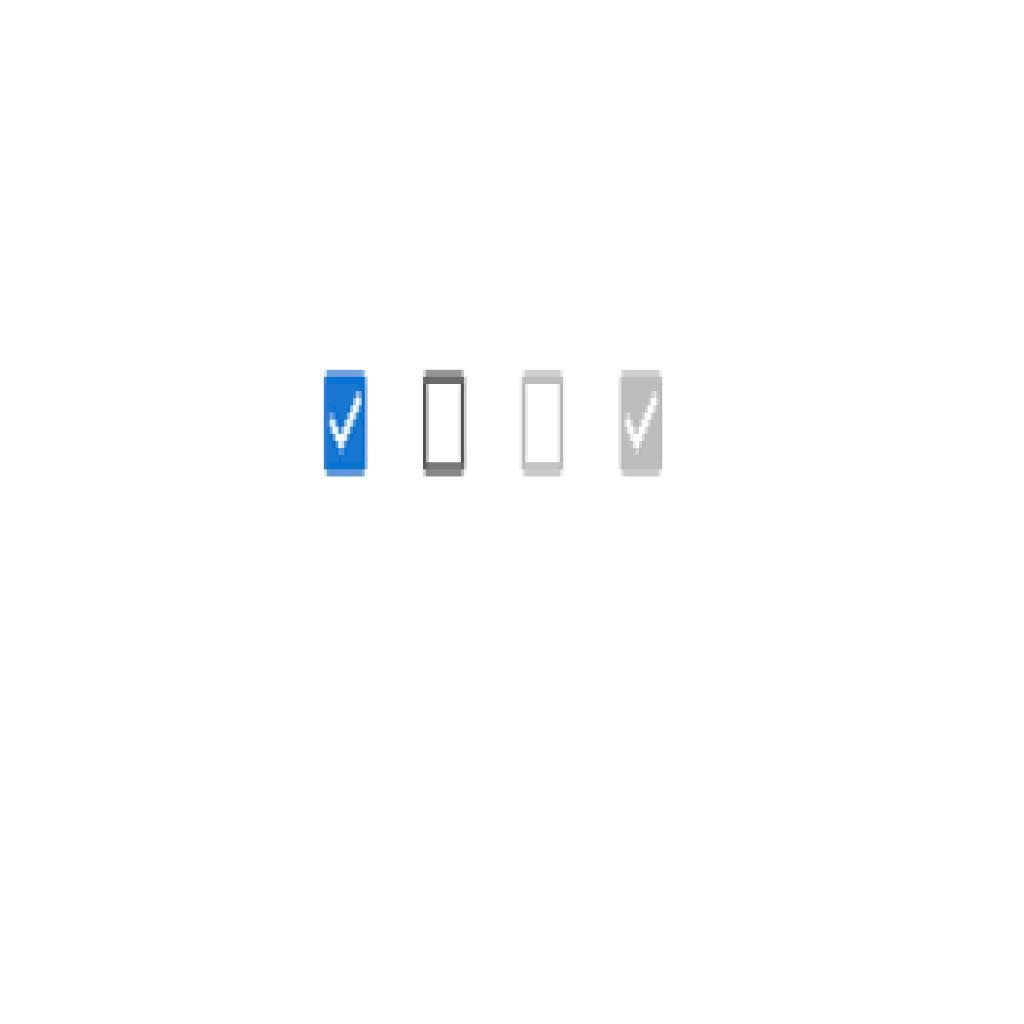checkbox: (324, 374, 366, 474), (523, 374, 565, 471), (623, 376, 662, 475), (425, 376, 465, 469)
